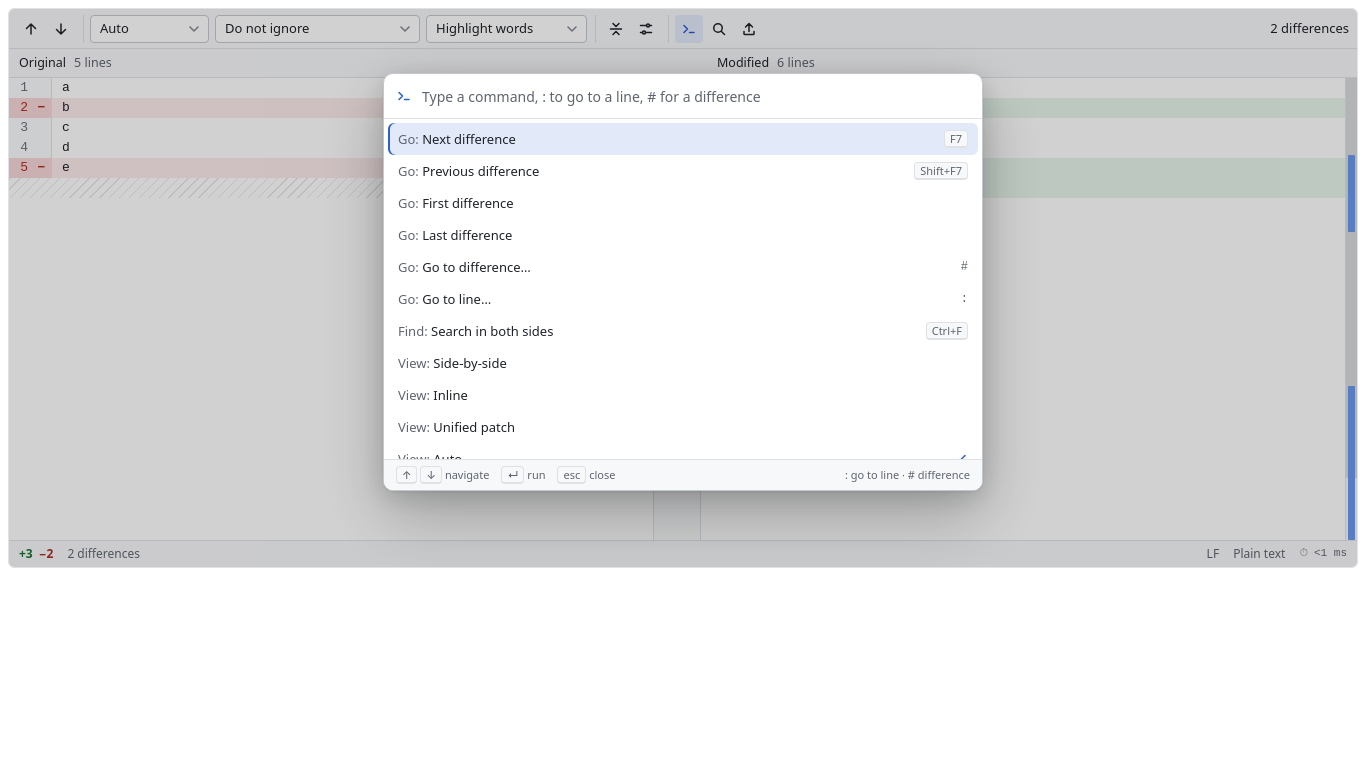
Scenario: <DiffViewer> command palette › shows search-only commands such as languages once something is typed
Check: the option "Language:" is not shown
Type "language: pyth" into the dropdown labelled "command" at coordinates (695, 96), box [420,74,970,118]
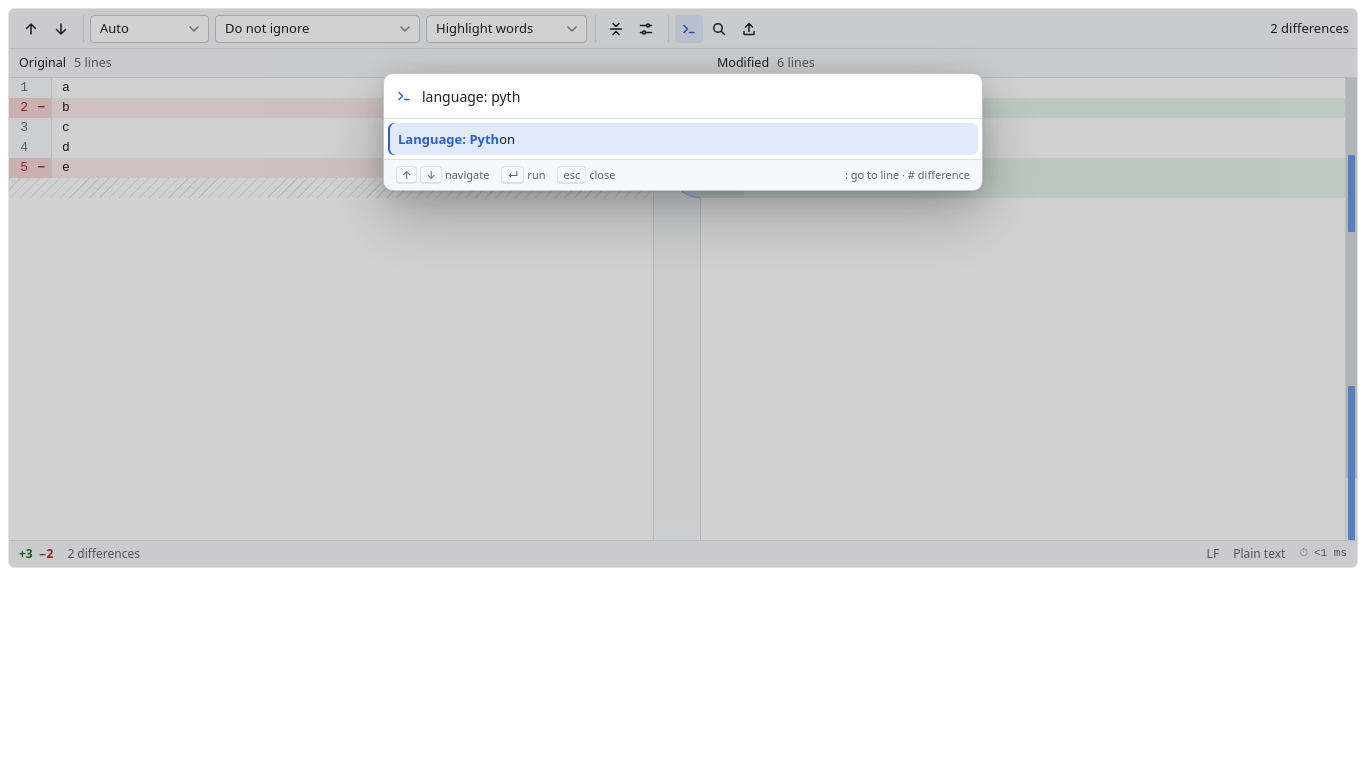
Check: the option reads "Language: Python", box [388,123,978,155]
